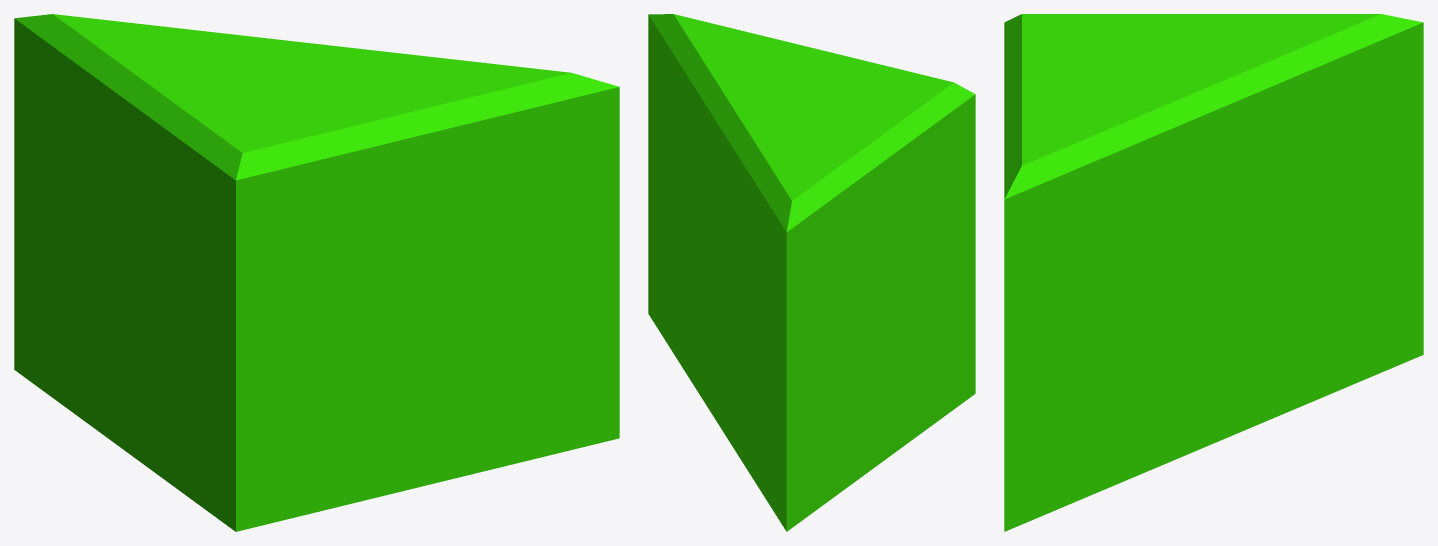
The model's file is diagonal_1x1.fbx.
3 views of the same model, side by side, from view 1: azimuth 30°, elevation 25°; view 2: azimuth 150°, elevation 25°; view 3: azimuth 270°, elevation 25° (orthographic). The views are drawn at different scales.
Parts seen in each view (by area): view 1: diagonal_1x1; view 2: diagonal_1x1; view 3: diagonal_1x1.
Boxes of the visible parts, box(x1,y1,x2,y2) form: diagonal_1x1: box(14, 14, 619, 531); diagonal_1x1: box(648, 14, 975, 531); diagonal_1x1: box(1004, 14, 1423, 531).
Bounding box in the file's own units: 120 × 110 × 120.
